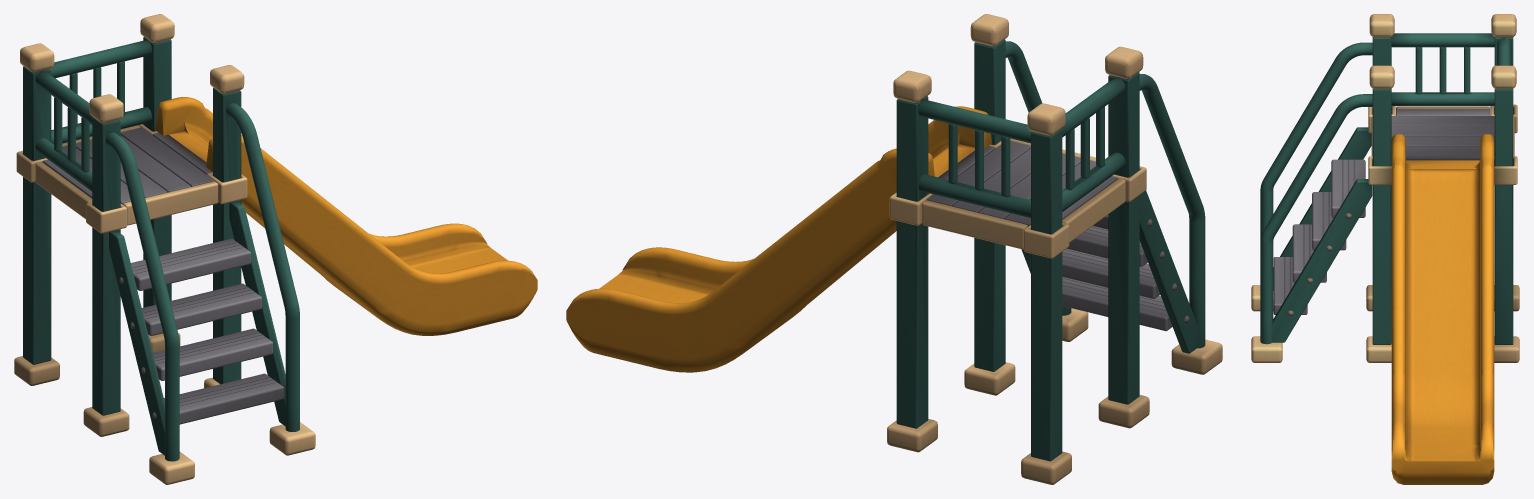
The model's file is houdini_playground_slide.glb.
3 views of the same model, side by side, from view 1: azimuth 30°, elevation 25°; view 2: azimuth 150°, elevation 25°; view 3: azimuth 270°, elevation 25° (orthographic). The views are drawn at different scales.
Parts seen in each view (by area): view 1: LOD0; view 2: LOD0; view 3: LOD0.
Part boxes in pixels (<box>): LOD0: <box>14,14,537,484</box>; LOD0: <box>566,14,1222,484</box>; LOD0: <box>1251,14,1519,484</box>.
Size of what is drawn, in the model's own units: 4.29 by 2.99 by 2.52.
1 material, 1 textured.
